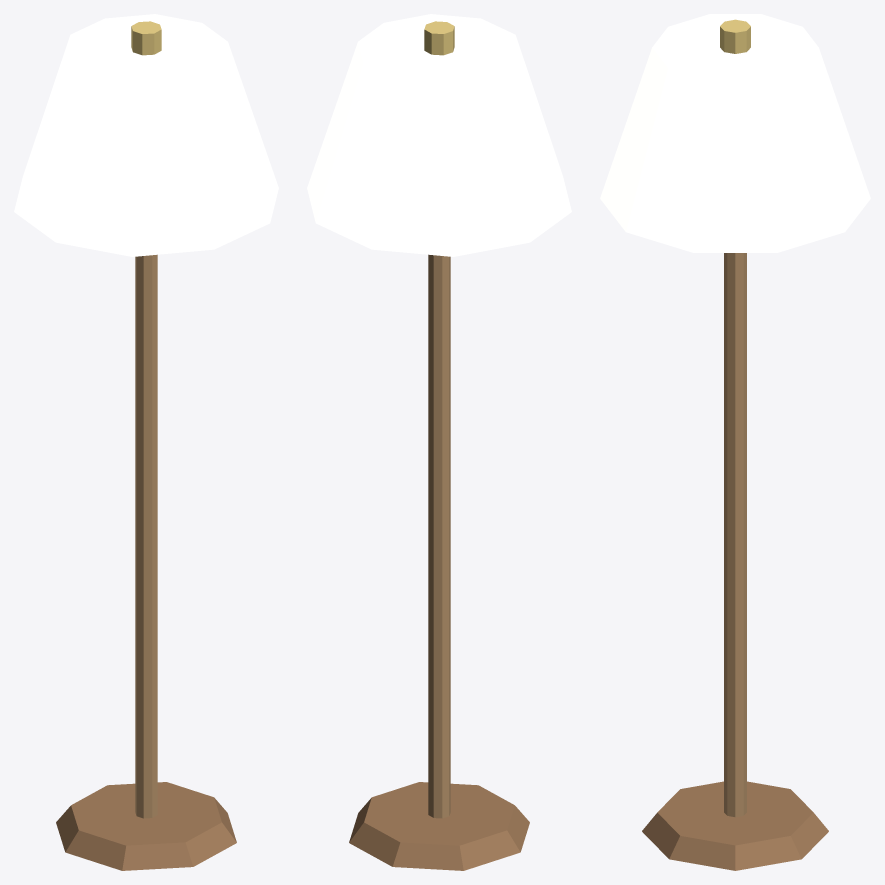
The model's file is prop_floor_lamp_01.glb.
3 views of the same model, side by side, from view 1: azimuth 30°, elevation 25°; view 2: azimuth 150°, elevation 25°; view 3: azimuth 270°, elevation 25° (orthographic).
Visible parts, largest first — view 1: prop_floor_lamp_01_body; view 2: prop_floor_lamp_01_body; view 3: prop_floor_lamp_01_body.
Boxes of the visible parts, left/top/right/bottom form: prop_floor_lamp_01_body: left=14, top=14, right=278, bottom=870; prop_floor_lamp_01_body: left=307, top=14, right=571, bottom=870; prop_floor_lamp_01_body: left=600, top=14, right=870, bottom=870.
Bounding box in the file's own units: 0.4945 × 1.7 × 0.52.
